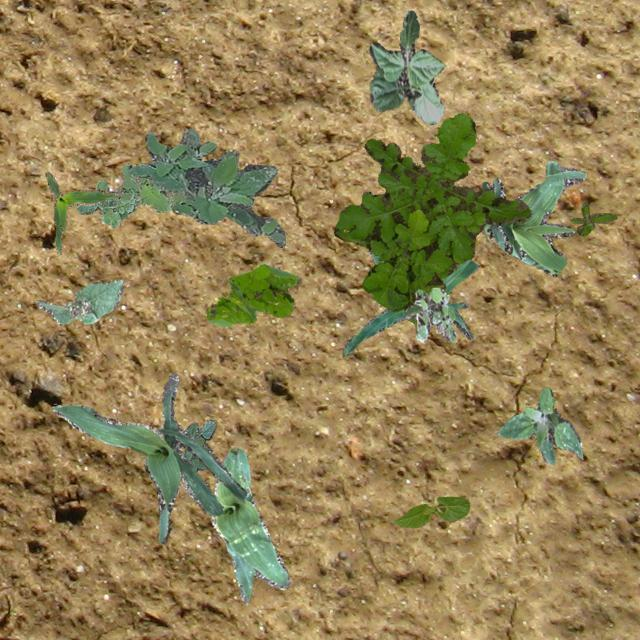crop: (51, 372, 245, 542), (342, 248, 478, 354), (210, 448, 290, 604), (480, 160, 584, 276), (368, 8, 444, 124), (44, 170, 120, 254), (36, 278, 122, 322), (392, 496, 468, 526)
weed: (334, 113, 530, 324), (128, 127, 284, 247), (76, 162, 186, 226), (496, 386, 582, 464), (206, 264, 300, 326), (404, 286, 454, 342), (183, 418, 215, 471), (570, 202, 616, 234)
